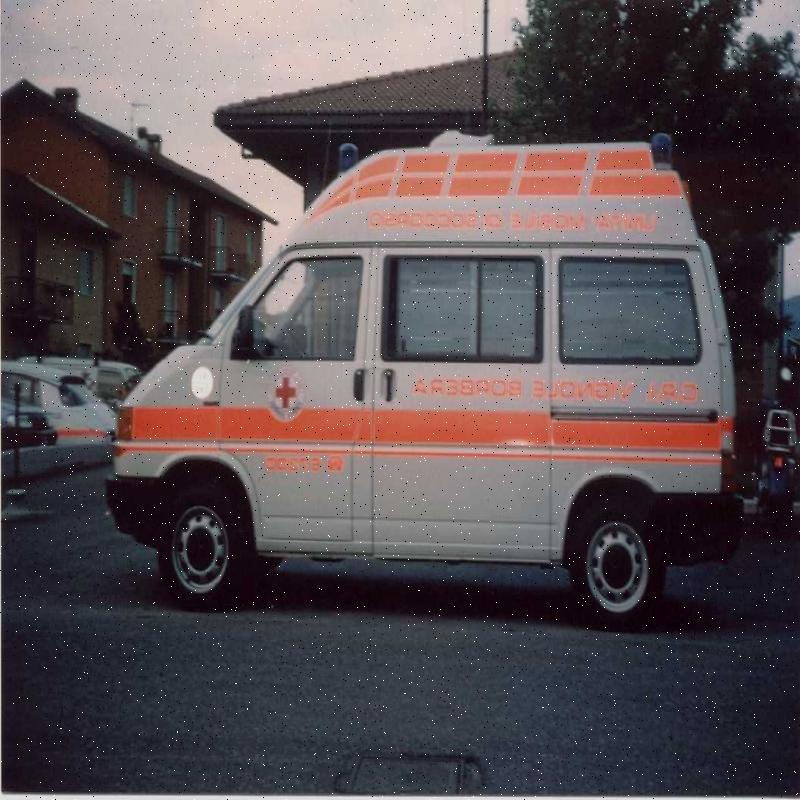AmbulanceSiren: (640, 113, 690, 185), (322, 128, 364, 195)
